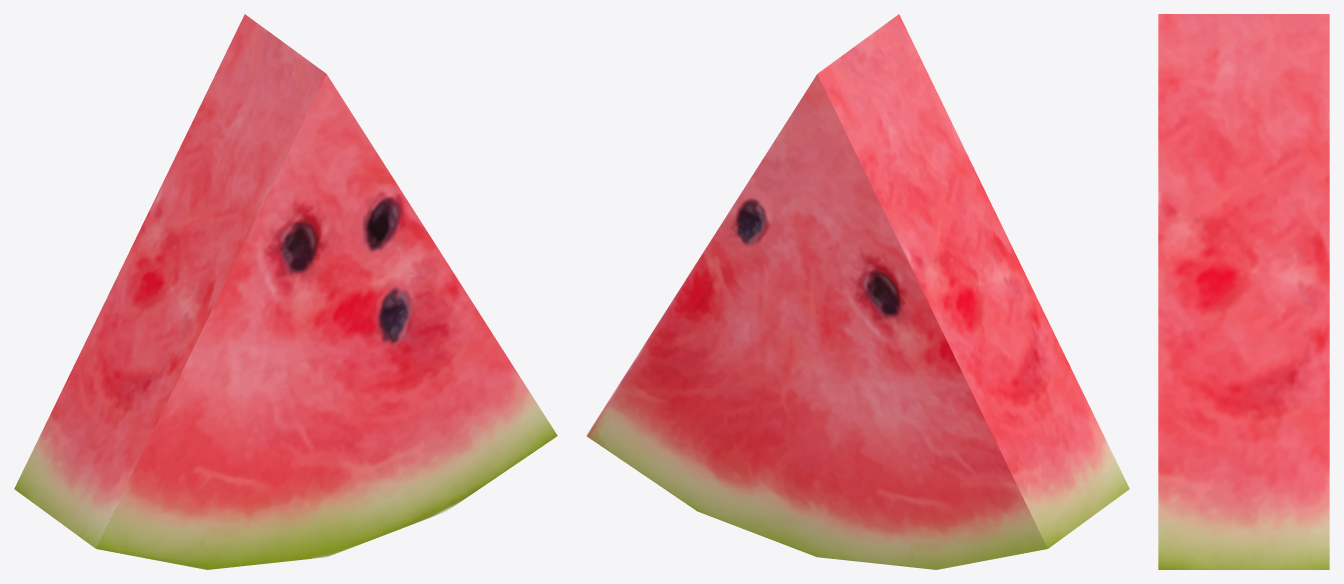
File: watermelon.glb
3 views of the same model, side by side, from view 1: azimuth 30°, elevation 25°; view 2: azimuth 150°, elevation 25°; view 3: azimuth 270°, elevation 25° (orthographic). The views are drawn at different scales.
Visible parts, largest first — view 1: Watermelon_Material.001_0; view 2: Watermelon_Material.001_0; view 3: Watermelon_Material.001_0.
Part boxes in pixels (<box>): Watermelon_Material.001_0: <box>14,14,557,569</box>; Watermelon_Material.001_0: <box>586,14,1129,569</box>; Watermelon_Material.001_0: <box>1158,14,1329,569</box>.
Bounding box in the file's own units: 0.9198 × 0.9198 × 0.2822.
Materials: 1 (1 with a texture image).
